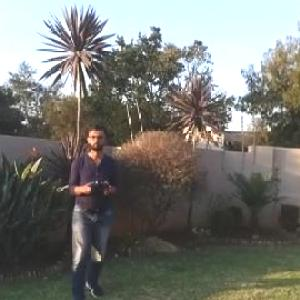follow: (62, 118, 119, 299)
